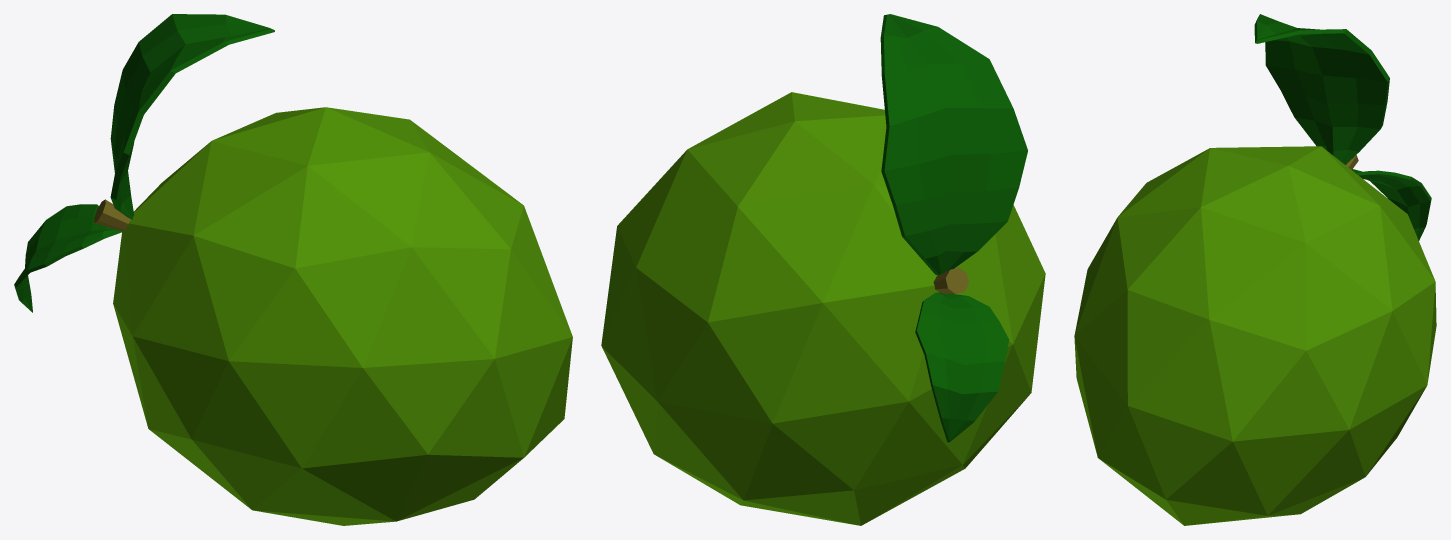
The model's file is Limon.fbx.
3 renders of one model, left to right at view 1: azimuth 30°, elevation 25°; view 2: azimuth 150°, elevation 25°; view 3: azimuth 270°, elevation 25°, orthographic. The views are drawn at different scales.
Parts seen in each view (by area): view 1: LimonEntero; view 2: LimonEntero; view 3: LimonEntero.
Part boxes in pixels (x1=…): LimonEntero: x1=14, y1=14, x2=572, y2=525; LimonEntero: x1=601, y1=14, x2=1045, y2=525; LimonEntero: x1=1074, y1=14, x2=1436, y2=525.
Bounding box in the file's own units: 5.31 × 5.6 × 4.25.
